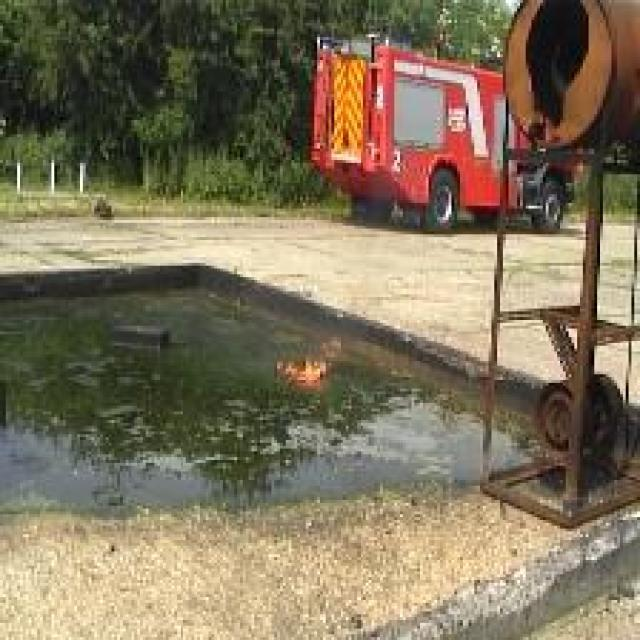Fire: (276, 334, 342, 386)
